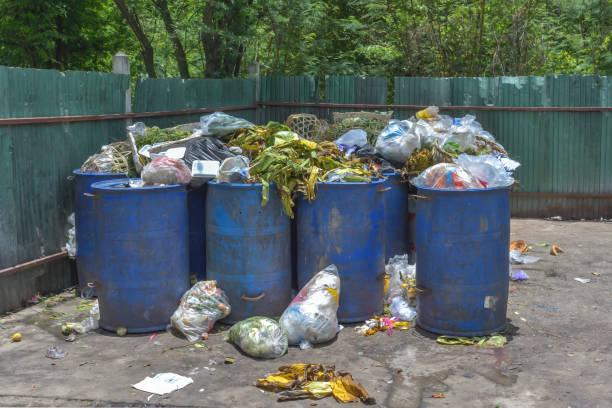trash: (203, 113, 314, 190), (376, 107, 524, 163), (292, 128, 421, 192), (169, 100, 256, 189), (368, 252, 437, 341), (286, 97, 405, 143), (280, 268, 347, 348), (265, 352, 367, 403), (76, 113, 158, 176), (141, 111, 198, 187), (170, 278, 232, 343), (419, 157, 524, 194), (238, 315, 283, 360), (135, 363, 184, 399), (501, 231, 543, 264), (440, 332, 506, 352), (65, 314, 94, 336), (548, 239, 571, 263), (506, 267, 525, 284), (41, 347, 67, 357), (9, 331, 23, 341)
trash_can_overflow: (398, 98, 526, 355), (284, 81, 421, 320), (64, 89, 193, 340), (191, 57, 293, 314)
